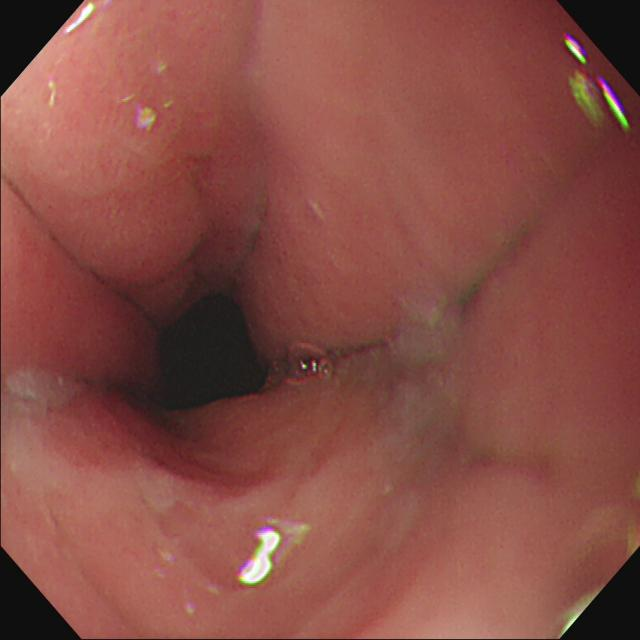A: (89, 56, 224, 254)
E: (159, 297, 265, 409)
J: (2, 368, 83, 503), (83, 465, 214, 523)
T: (280, 335, 338, 389)
U: (570, 70, 630, 132), (239, 530, 282, 586), (563, 33, 586, 66)
